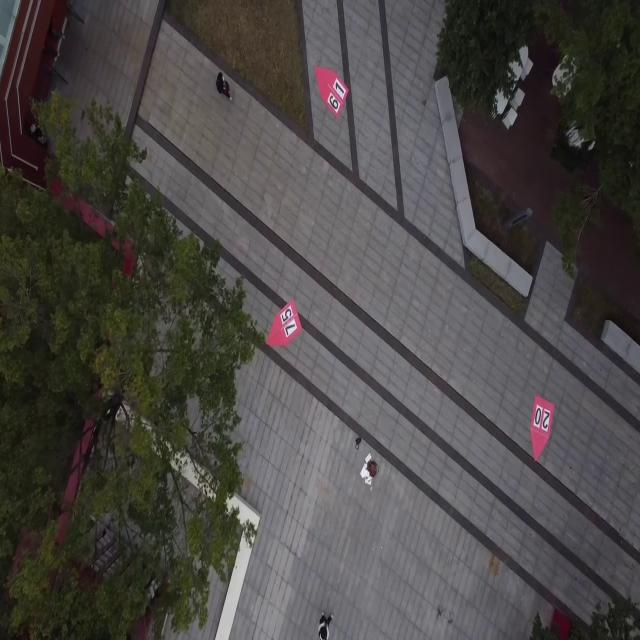-sign-: (314, 65, 350, 119), (266, 299, 303, 350), (530, 396, 556, 464)
